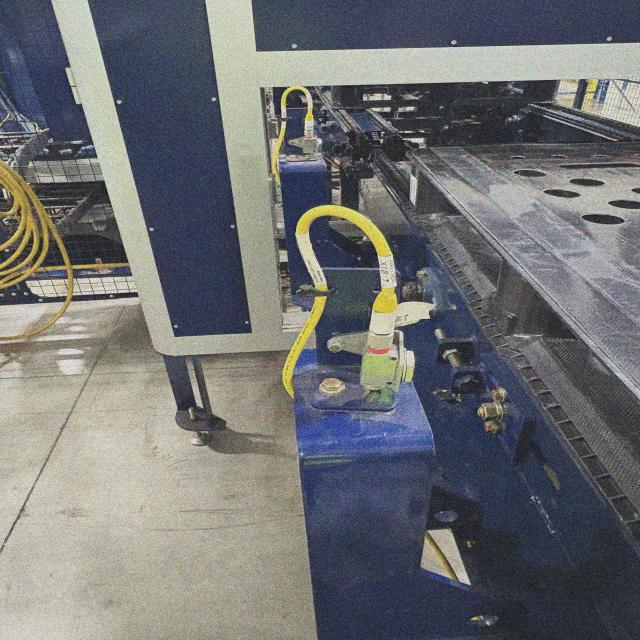igps: (389, 122, 640, 580)
